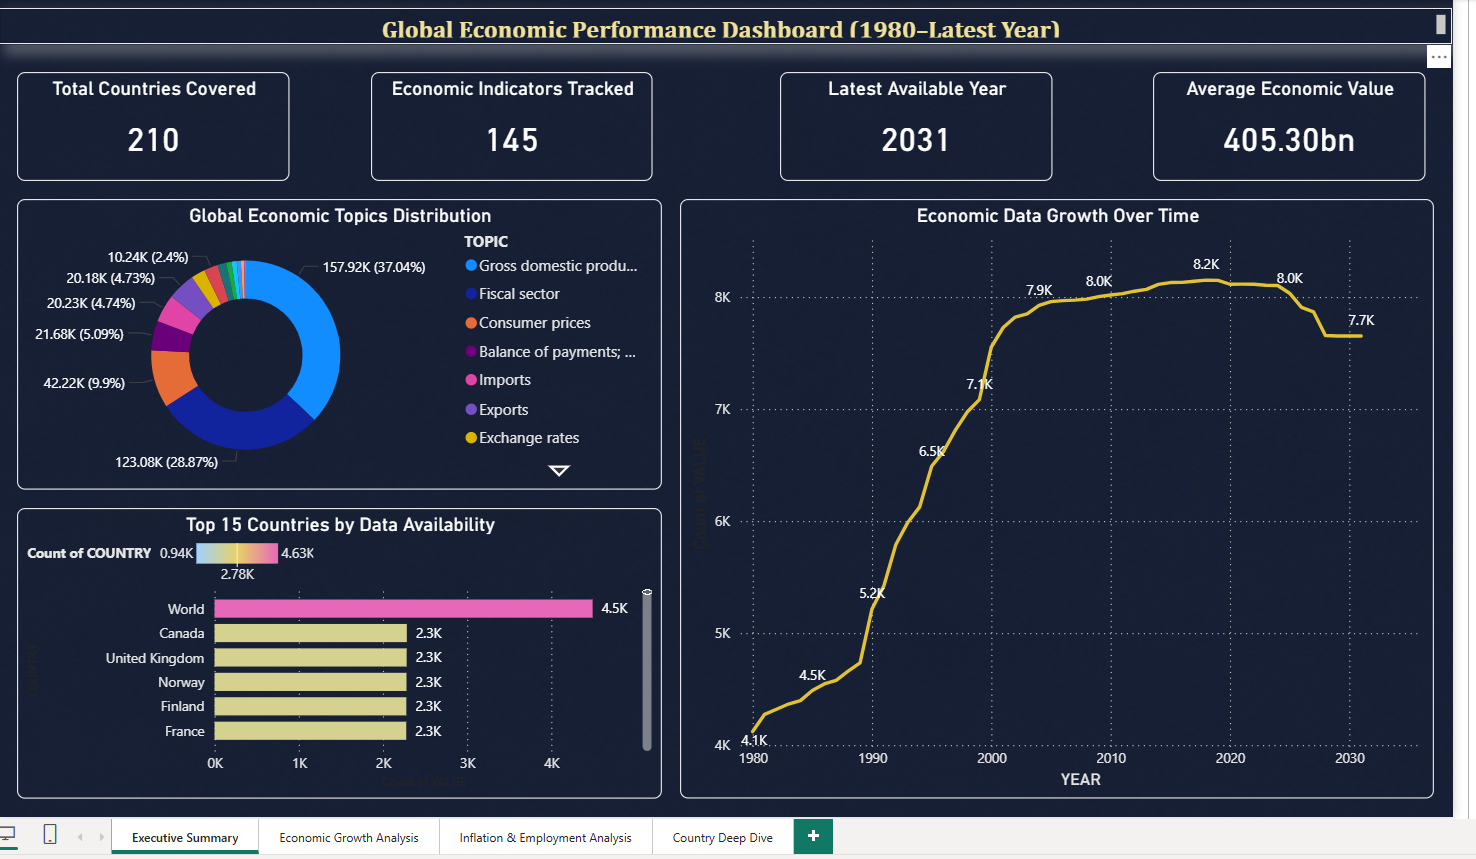

The dashboard page shown, as its layout file describes it:
{"tool":"powerbi","page":{"name":"Executive Summary","canvas":[1280,720],"ordinal":0},"visuals":[{"type":"textbox","box":[0,8,1280,32],"z":0},{"type":"card","title":"Total Countries Covered","fields":{"Values":["weo_clean.Total Countries"]},"box":[16,64,240,96],"z":1000},{"type":"card","title":"Economic Indicators Tracked","fields":{"Values":["weo_clean.Total Indicators"]},"box":[328,64,248,96],"z":2000},{"type":"card","title":"Latest Available Year","fields":{"Values":["weo_clean.Latest Year"]},"box":[688,64,240,96],"z":3000},{"type":"card","title":"Average Economic Value","fields":{"Values":["weo_clean.Avg Value"]},"box":[1016,64,240,96],"z":4000},{"type":"donutChart","title":"Global Economic Topics Distribution","fields":{"Category":["weo_clean.TOPIC"],"Y":["CountNonNull(weo_clean.TOPIC)"]},"box":[16,176,568,256],"z":5000},{"type":"barChart","title":"Top 15 Countries by Data Availability","fields":{"Category":["weo_clean.COUNTRY"],"Y":["CountNonNull(weo_clean.VALUE)"]},"box":[16,448,568,256],"z":6000},{"type":"lineChart","title":"Economic Data Growth Over Time","fields":{"Category":["weo_clean.YEAR"],"Y":["CountNonNull(weo_clean.VALUE)"]},"box":[600,176,664,528],"z":7000}]}

Visuals, with their boxes on the page's 1280x720 design canvas (x1, y1, x2, y2). These are canvas units, not pixel positions in the 1476x859 screenshot, which may show the page scaled, cropped or inside an application window:
textbox: 0,8,1280,40
"Total Countries Covered" card: 16,64,256,160
"Economic Indicators Tracked" card: 328,64,576,160
"Latest Available Year" card: 688,64,928,160
"Average Economic Value" card: 1016,64,1256,160
"Global Economic Topics Distribution" donutChart: 16,176,584,432
"Top 15 Countries by Data Availability" barChart: 16,448,584,704
"Economic Data Growth Over Time" lineChart: 600,176,1264,704
